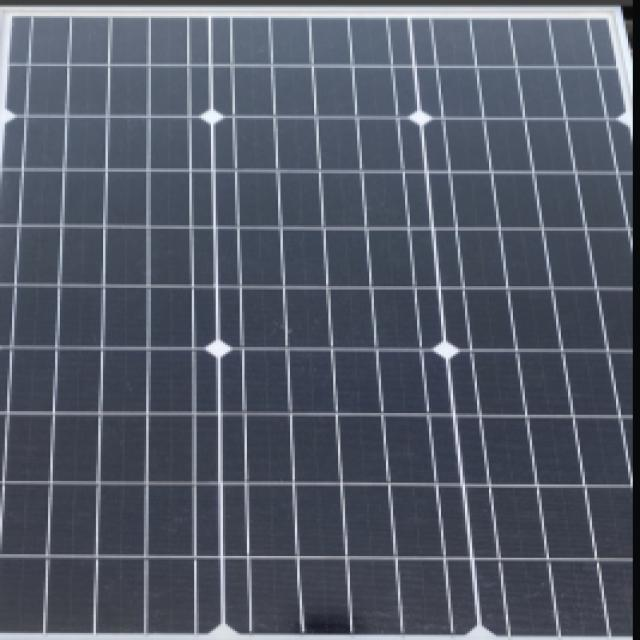clean-solar-panel: (3, 17, 630, 635)
